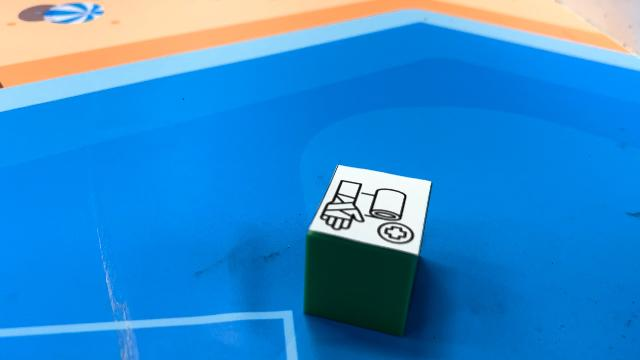bandage: (303, 163, 432, 336)
